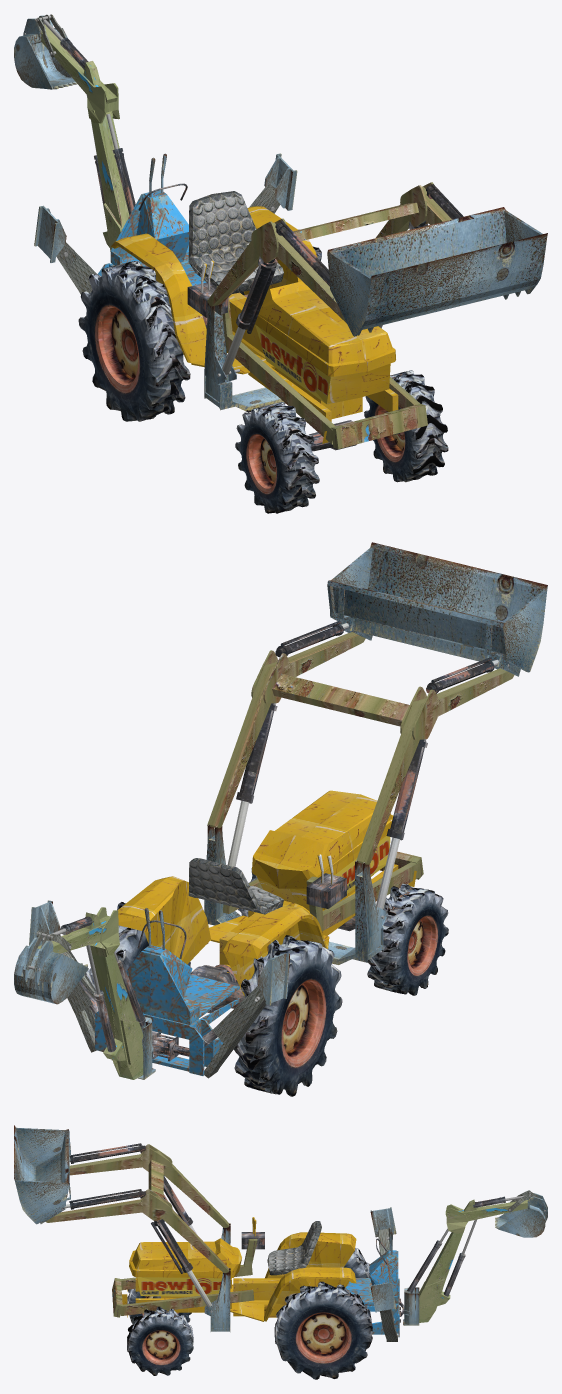
File: tractor.fbx
The picture shows the model from 3 angles, top to bottom: view 1: azimuth 30°, elevation 25°; view 2: azimuth 150°, elevation 25°; view 3: azimuth 270°, elevation 25°; orthographic projection. The views are drawn at different scales.
Parts seen in each view (by area): view 1: MainBody, frontBucket, rr_tire, fr_tire, arms, fl_tire, boom, bucket, stab2, stab03, boomArm, armHydraulic (+2 smaller); view 2: MainBody, frontBucket, arms, rr_tire, fr_tire, boom, stab2, bucket, armHydraulic, stab03, frontBucketHydraulic, armHydraulicPiston (+3 smaller); view 3: MainBody, rl_tire, arms, frontBucket, fl_tire, boom, bucket, frontBucketHydraulic, armHydraulic, stab03, stab2, boomArm (+4 smaller).
Boxes of the visible parts, x1,y1,x2,y2 form: MainBody: (98,153,427,449); frontBucket: (327,207,547,336); rr_tire: (78,261,190,421); fr_tire: (235,402,319,513); arms: (207,182,451,323); fl_tire: (364,370,448,482); boom: (87,83,129,251); bucket: (14,15,77,89); stab2: (34,205,99,294); stab03: (249,153,297,213); boomArm: (41,24,118,120); armHydraulic: (236,220,427,333); MainBody: (95,790,423,1075); frontBucket: (327,542,547,676); arms: (207,632,514,864); rr_tire: (234,935,342,1096); fr_tire: (367,883,448,995); boom: (90,907,143,1079); stab2: (204,952,289,1078); bucket: (14,937,88,1004); armHydraulic: (236,703,427,840); stab03: (29,900,96,1052); frontBucketHydraulic: (275,620,494,693); armHydraulicPiston: (227,800,400,909); MainBody: (112,1217,399,1337); rl_tire: (274,1281,372,1379); arms: (45,1144,228,1272); frontBucket: (14,1125,70,1224); fl_tire: (127,1306,193,1375); boom: (419,1204,468,1322); bucket: (495,1193,547,1237); frontBucketHydraulic: (69,1143,145,1209); armHydraulic: (151,1175,192,1273); stab03: (370,1282,397,1341); stab2: (370,1207,396,1256); boomArm: (445,1199,528,1221).
Bounding box in the file's own units: 110 × 336 × 139.
